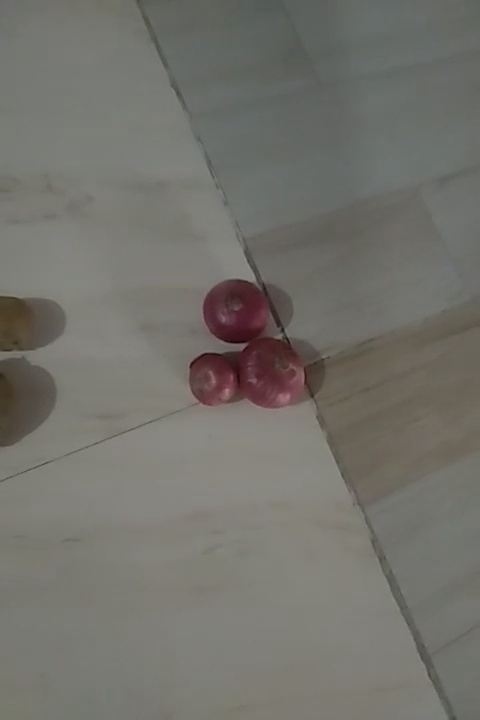onion: (202, 275, 276, 343), (238, 342, 309, 406), (189, 353, 239, 411)
potato: (1, 292, 43, 349)
